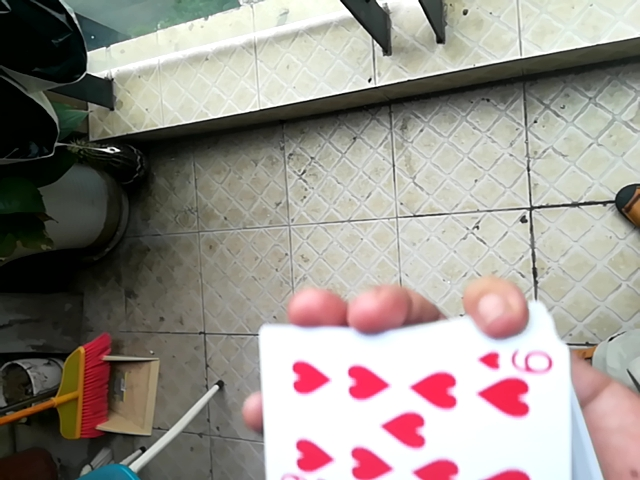hx 9: (258, 320, 616, 476)
